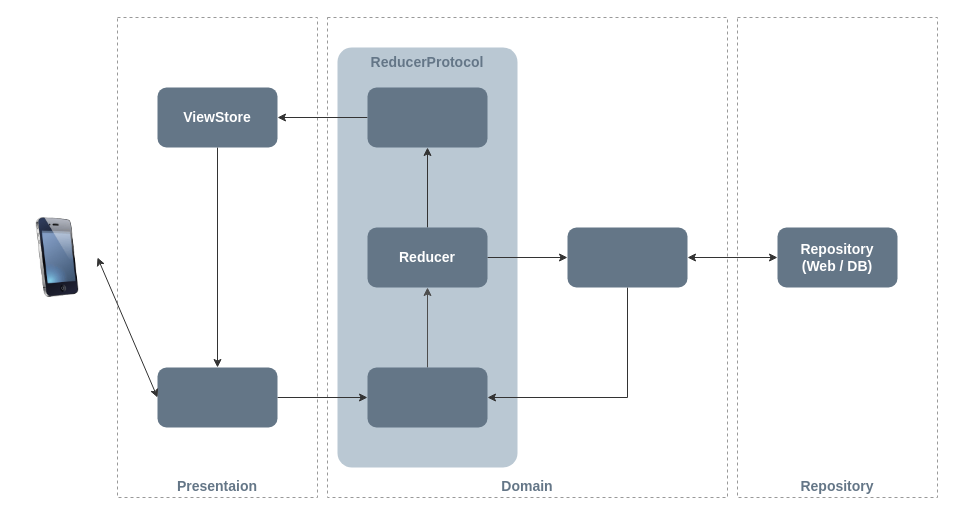
The diagram is 955 pixels wide and 515 high, and some of its shapes have lost their labels. The centre of each missing label's shape, as x and y in pixels:
Action: point (427, 397)
Effect: point (627, 257)
State: point (427, 117)
View: point (217, 397)
